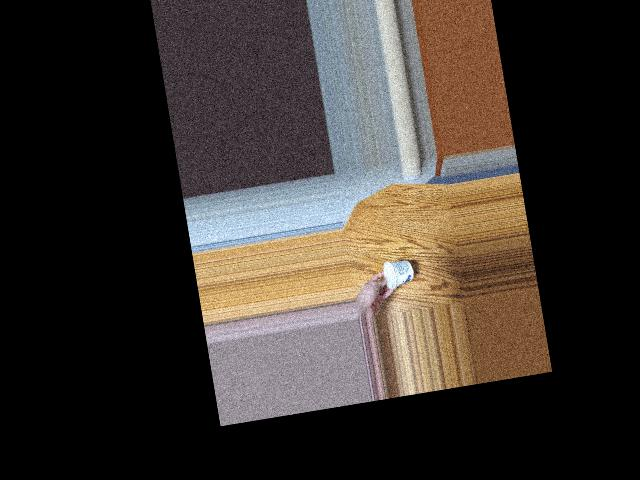cotage: (379, 263, 412, 290)
